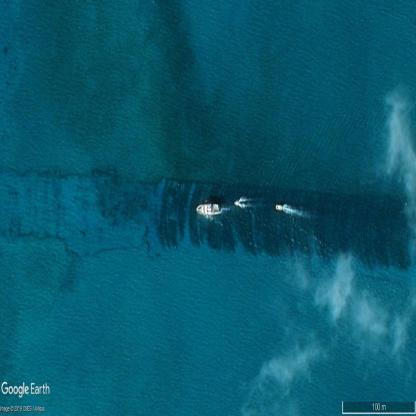ship: (196, 203, 218, 214), (275, 204, 283, 210), (234, 201, 238, 205)
